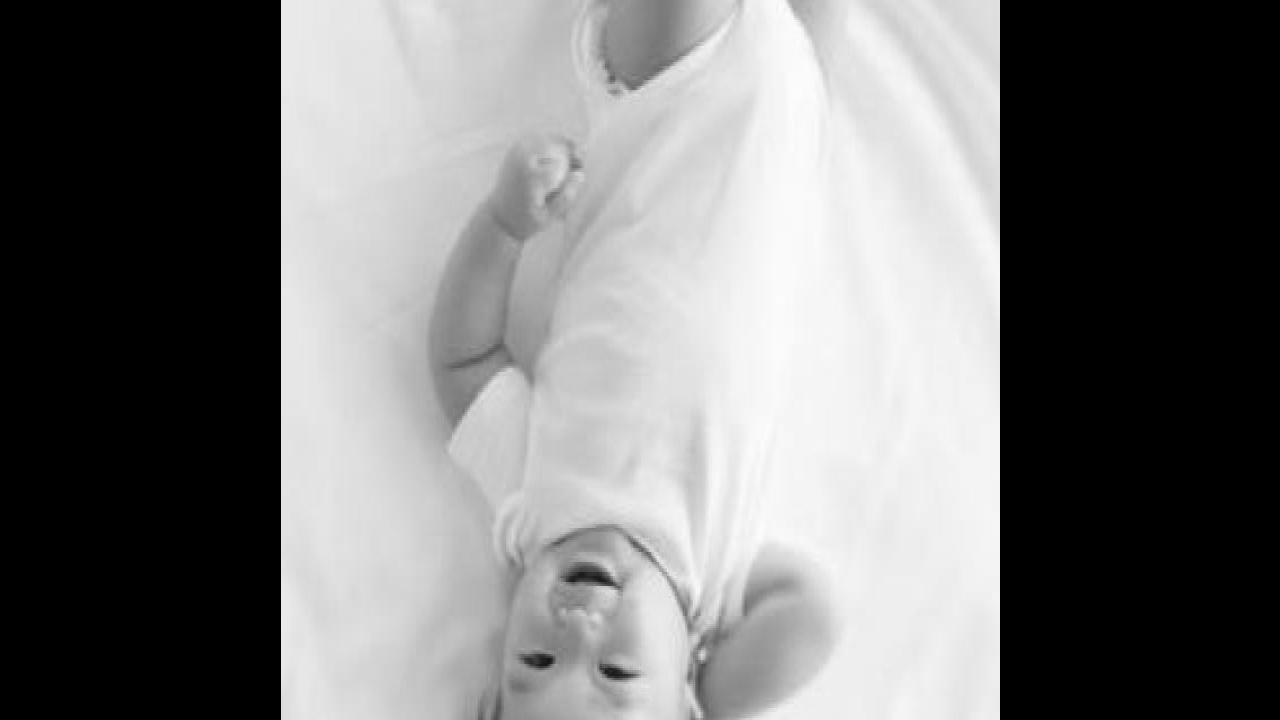hand: (486, 133, 584, 247)
